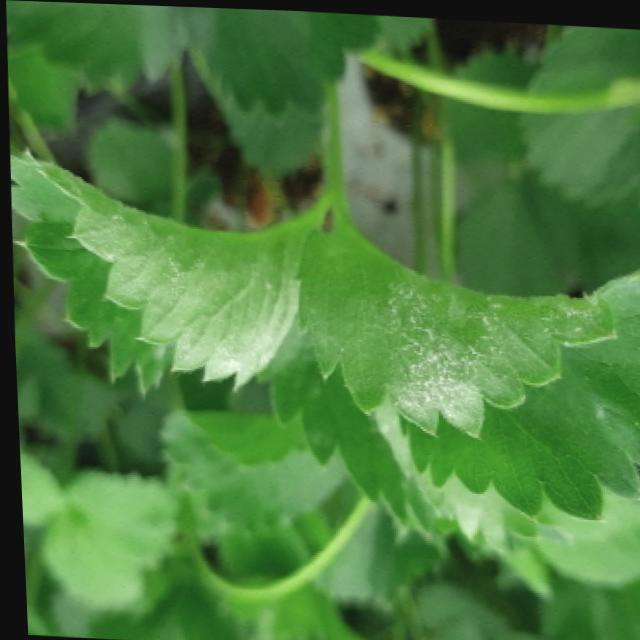Powdery Mildew Leaf: (291, 207, 640, 518), (8, 149, 331, 396)
